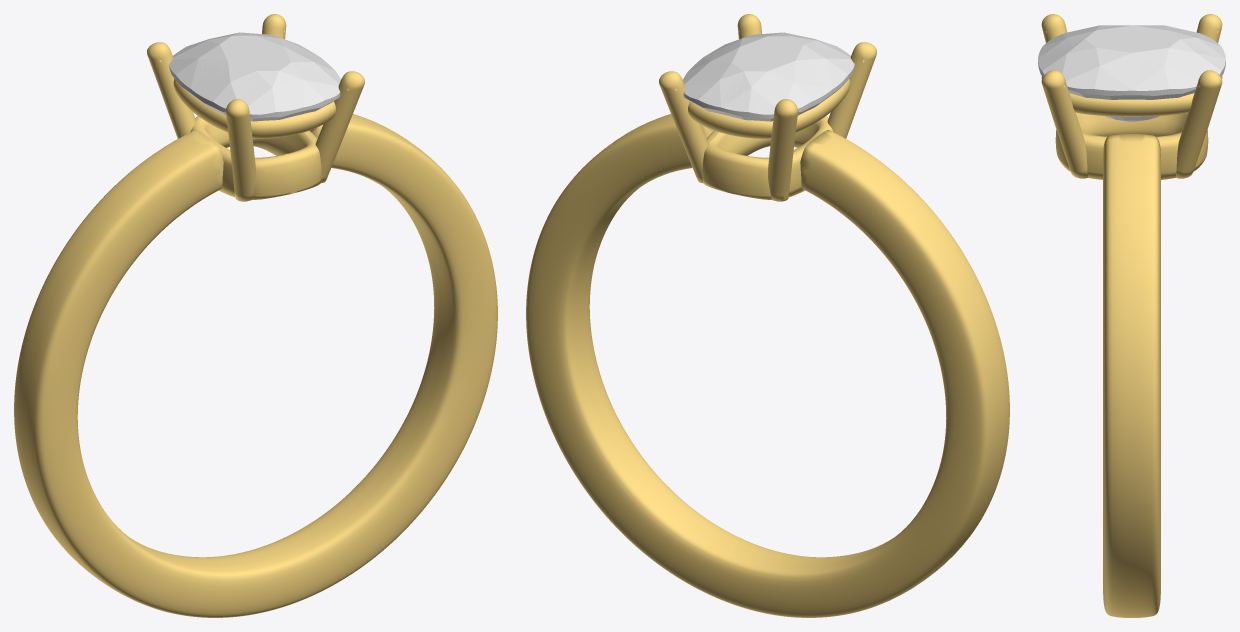
The model's file is diamond-cushion-yellowgold-4prong-straightband-nosidestones.glb.
3 views of the same model, side by side, from view 1: azimuth 30°, elevation 25°; view 2: azimuth 150°, elevation 25°; view 3: azimuth 270°, elevation 25° (orthographic).
Parts seen in each view (by area): view 1: metal.003, stone; view 2: metal.003, stone; view 3: metal.003, stone.
Part boxes in pixels (x1,y1,x2,y2): metal.003: (14, 14, 497, 617); stone: (169, 32, 340, 121); metal.003: (526, 14, 1009, 617); stone: (683, 32, 854, 121); metal.003: (1041, 14, 1222, 617); stone: (1038, 25, 1225, 121).
Bounding box in the file's own units: 20.51 × 23.24 × 7.15.
